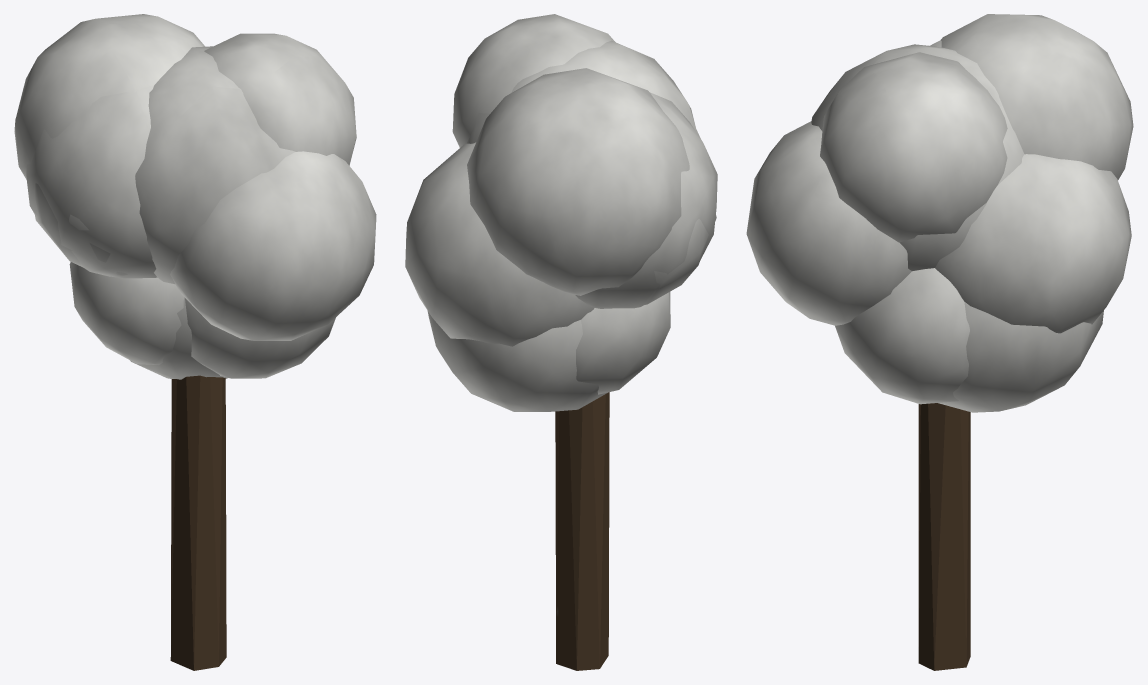
Rendered from strom_v3.glb.
3 views of the same model, side by side, from view 1: azimuth 30°, elevation 25°; view 2: azimuth 150°, elevation 25°; view 3: azimuth 270°, elevation 25° (orthographic).
Visible parts, largest first — view 1: dum; view 2: dum; view 3: dum.
Part boxes in pixels (bbox=[...]): dum: bbox=[14, 14, 376, 670]; dum: bbox=[405, 14, 717, 670]; dum: bbox=[746, 14, 1133, 670].
Bounding box in the file's own units: 3 × 6.49 × 3.66.
1 material, 1 textured.
